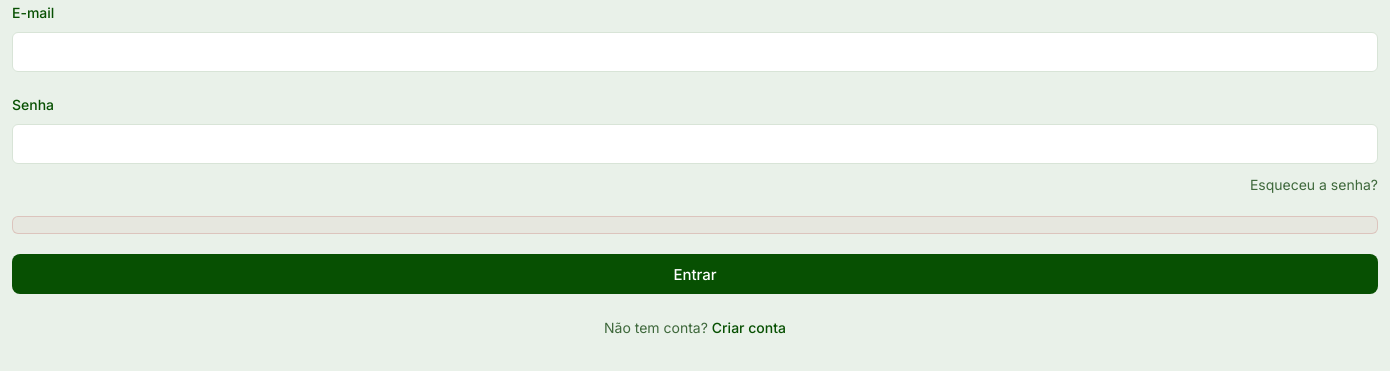
Test: LoginForm › renderiza o erro geral (credenciais inválidas) com role=alert
Type "user@example.com" into the field labelled "E-mail" at (695, 52), box [12, 32, 1378, 72]
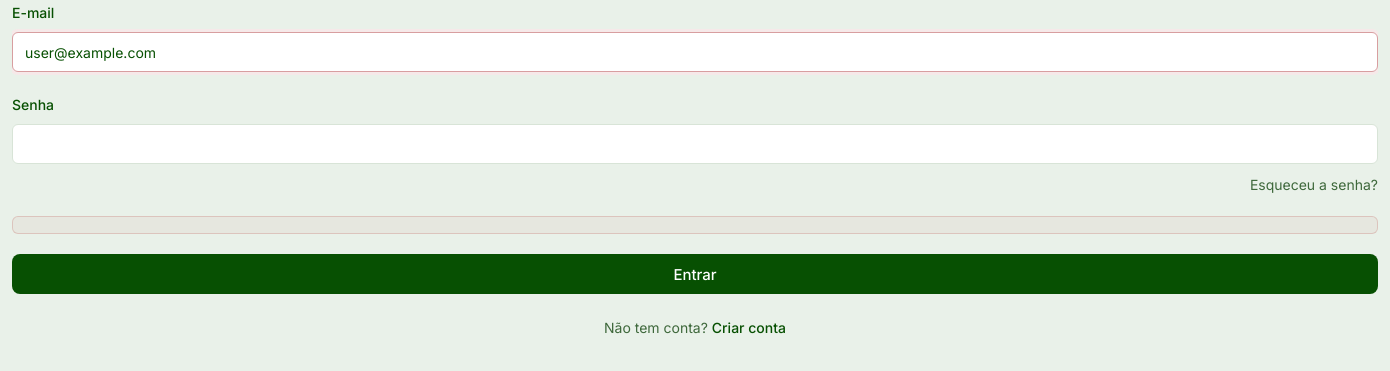
Type "SenhaErrada1" into the password field labelled "Senha" at (695, 144), box [12, 124, 1378, 164]
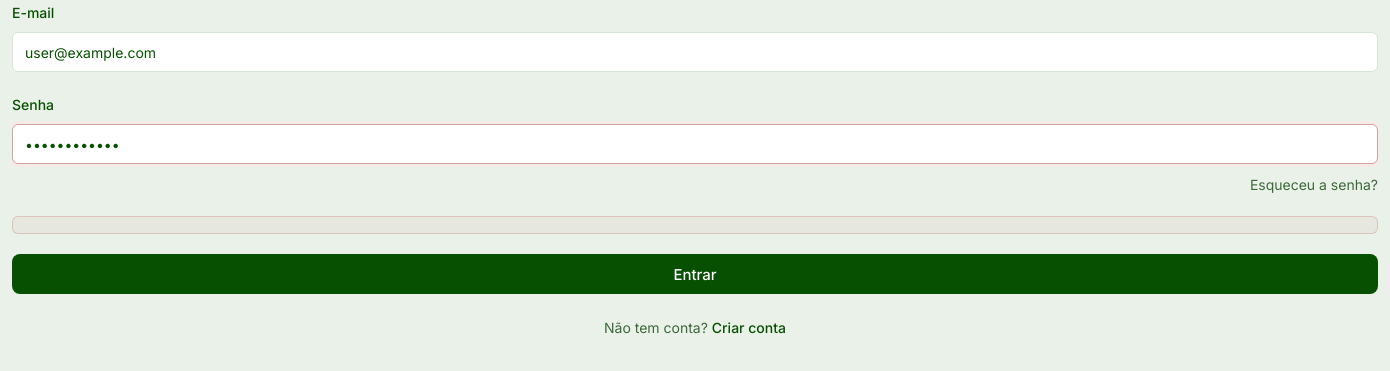
Click the button "Entrar" at (695, 274), box [12, 254, 1378, 294]
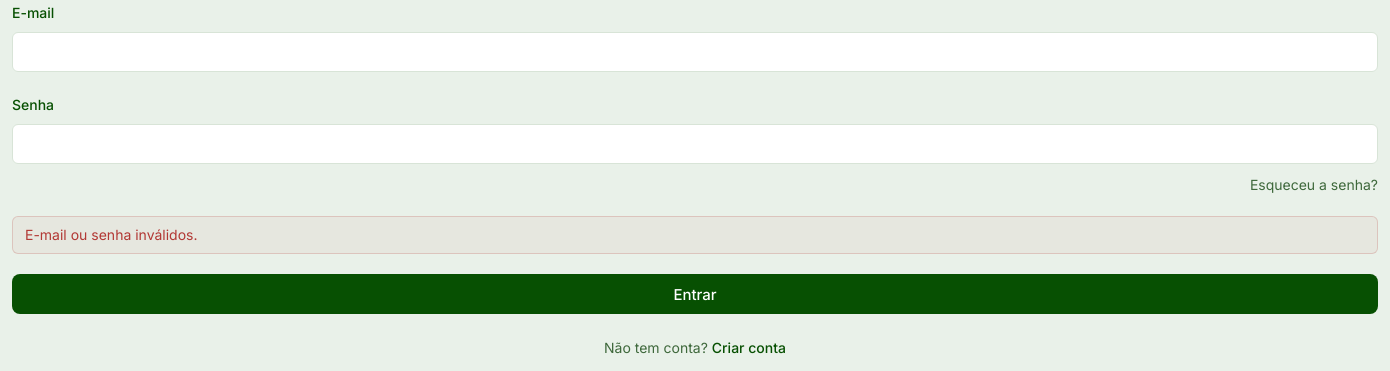
Expected: the message reads "E-mail ou senha inválidos.", [25, 226, 198, 243]
